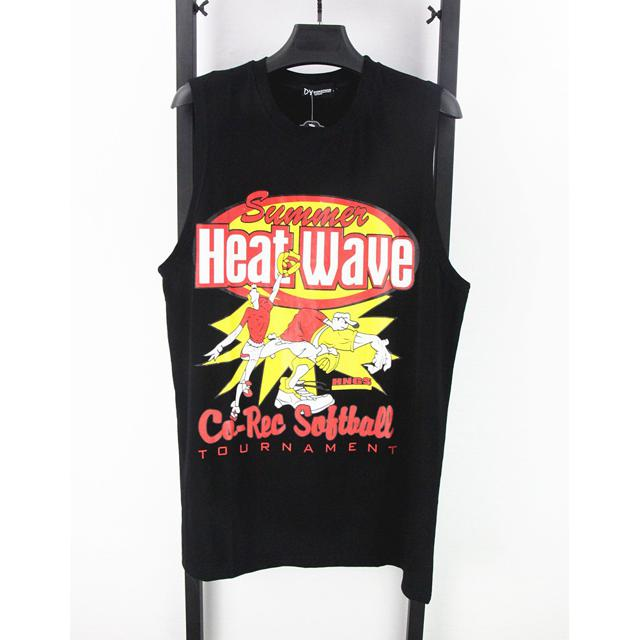Tops: (169, 56, 452, 577)
